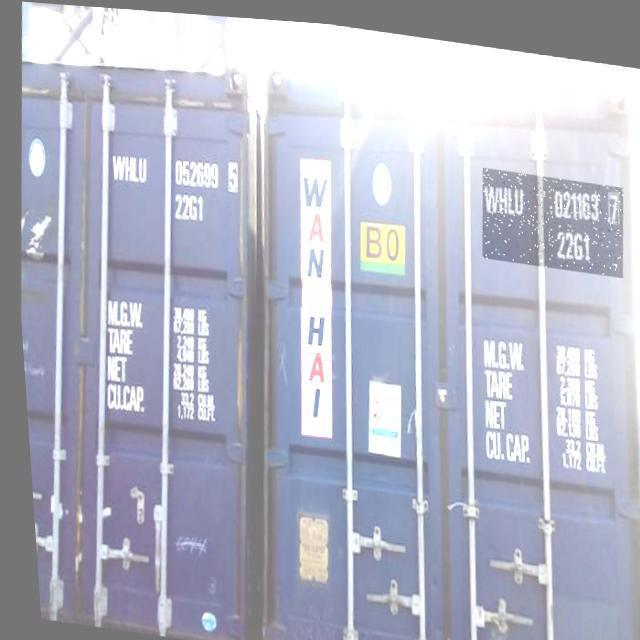container_number_h: (474, 159, 626, 269)
